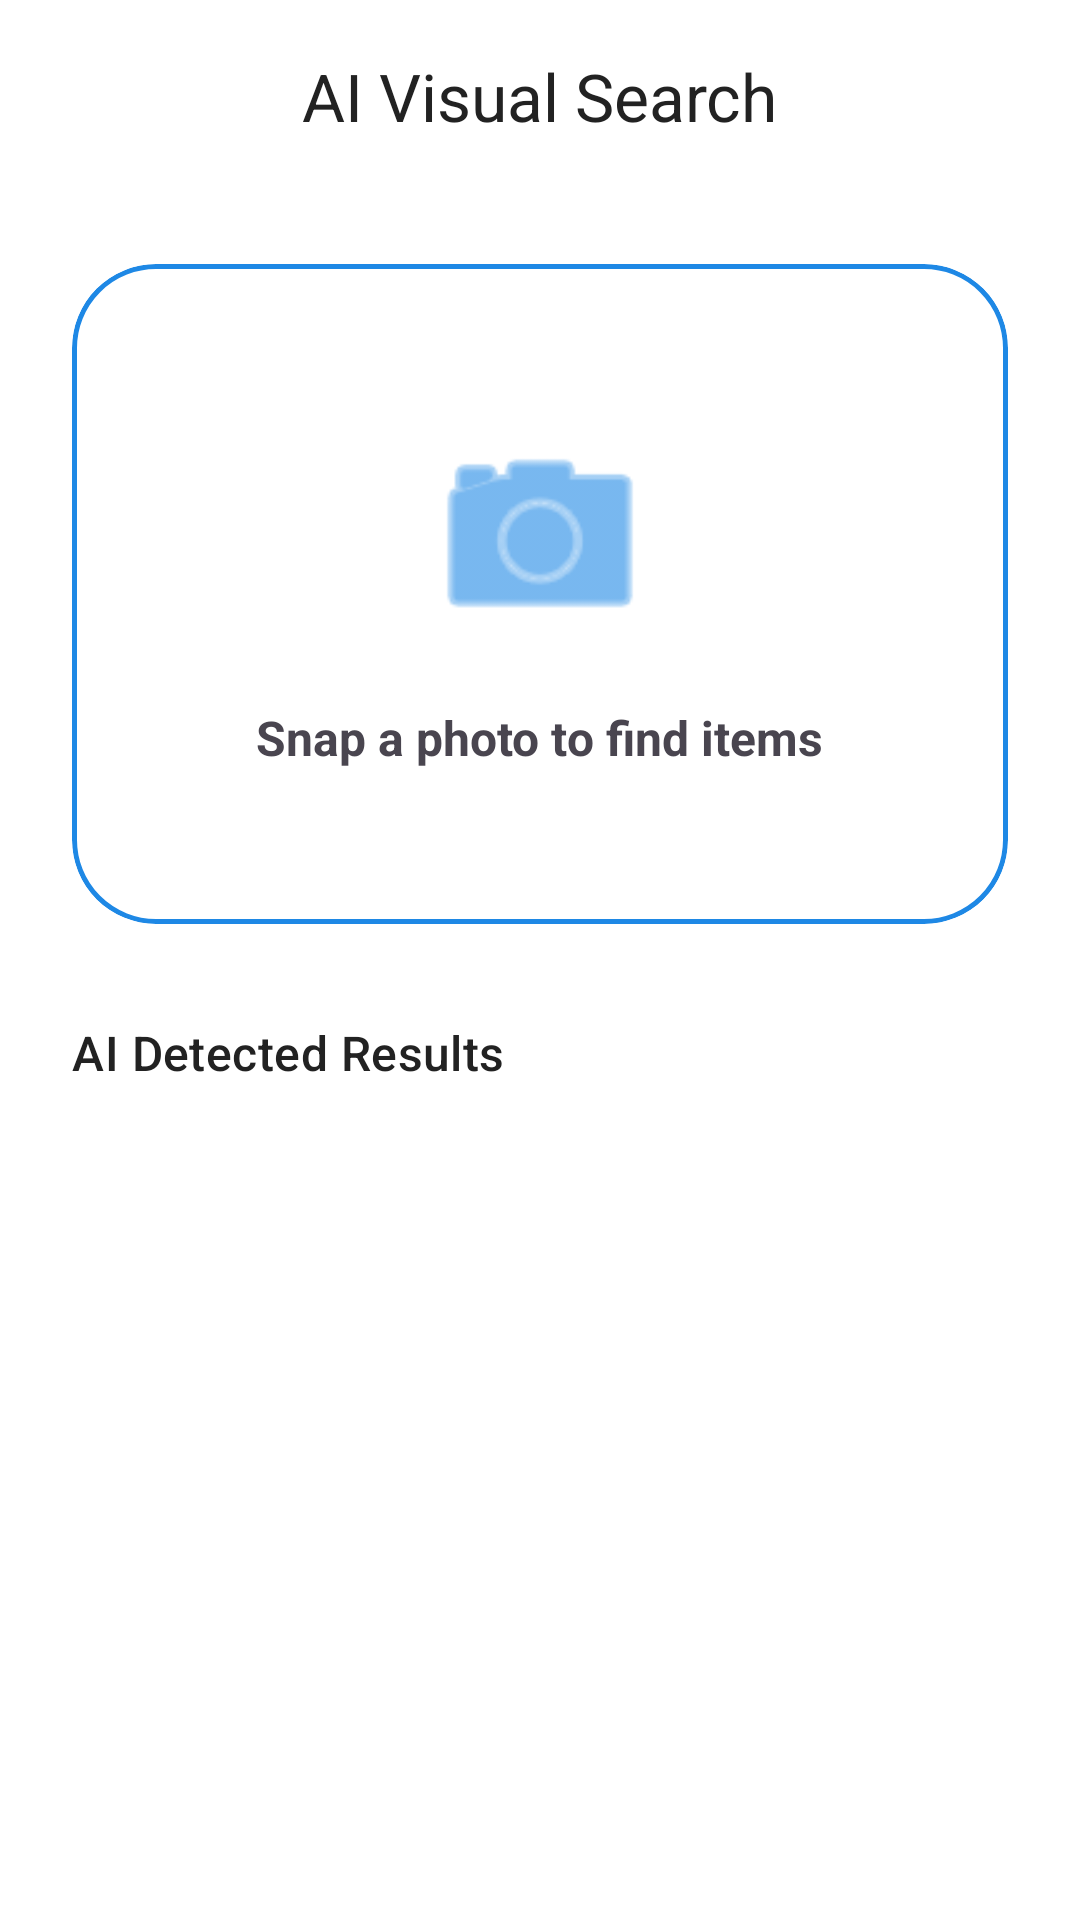

Icon click points for this 1080px×1920px phone screenshot, format (x,y):
camera: (540,533)
